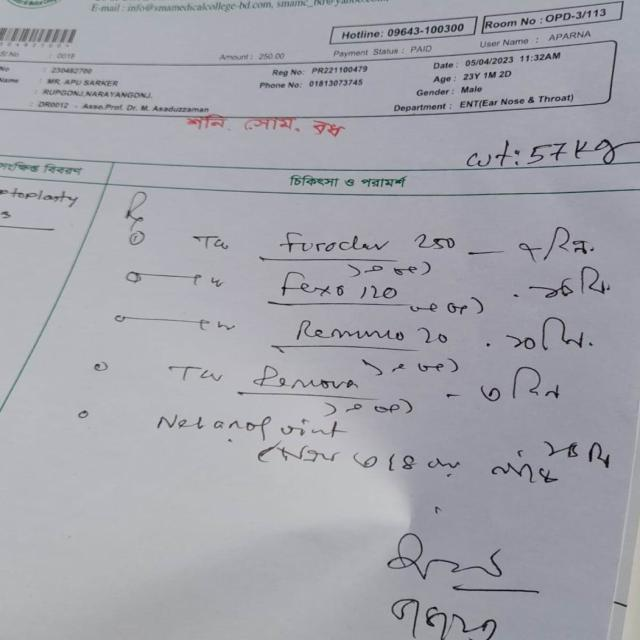Fexo: (261, 269, 353, 302)
Furoclav: (265, 223, 389, 257)
Renova: (240, 355, 370, 399)
remmo: (273, 313, 407, 351)
